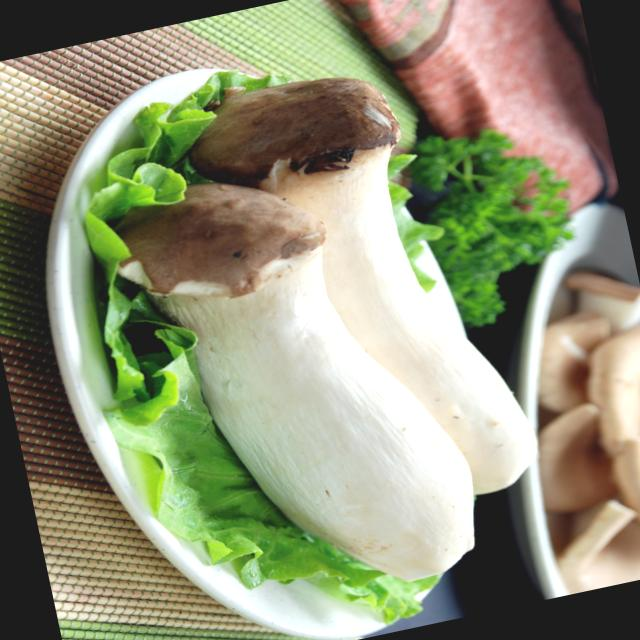Pleurotus eryngii: (87, 50, 562, 630)
